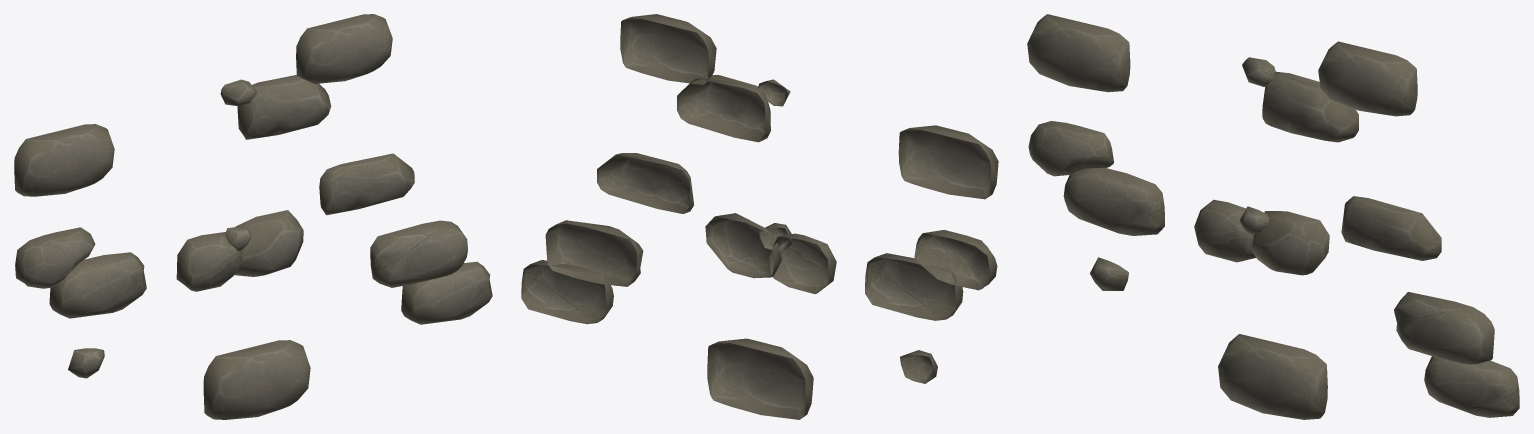
Rendered from MSH_fwOF_Ruins_Wall_Bricks_09.fbx.
3 views of the same model, side by side, from view 1: azimuth 30°, elevation 25°; view 2: azimuth 150°, elevation 25°; view 3: azimuth 330°, elevation 25° (orthographic). The views are drawn at different scales.
Parts seen in each view (by area): view 1: MSH_fwOF_Ruins_Wall_Bricks_09; view 2: MSH_fwOF_Ruins_Wall_Bricks_09; view 3: MSH_fwOF_Ruins_Wall_Bricks_09.
Part boxes in pixels (x1,y1,x2,y2): MSH_fwOF_Ruins_Wall_Bricks_09: [14, 14, 492, 419]; MSH_fwOF_Ruins_Wall_Bricks_09: [521, 14, 998, 419]; MSH_fwOF_Ruins_Wall_Bricks_09: [1027, 14, 1519, 419].
Size of the model in its own units: 3.05 by 2.28 by 0.2007.
